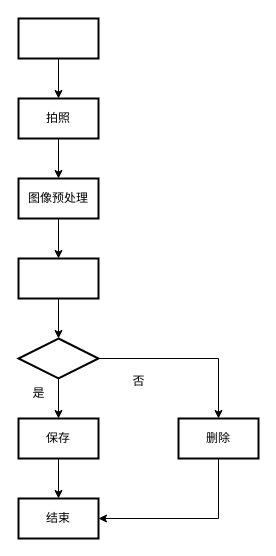
Some shapes in this 276 by 556 pixel diagram are drawn without their labels. The box of each missing label's shape, as (x1, y1, x2, y2) in pixels:
人脸检测: (17, 337, 99, 379)
图像传输: (17, 257, 99, 299)
开始: (17, 17, 99, 59)
